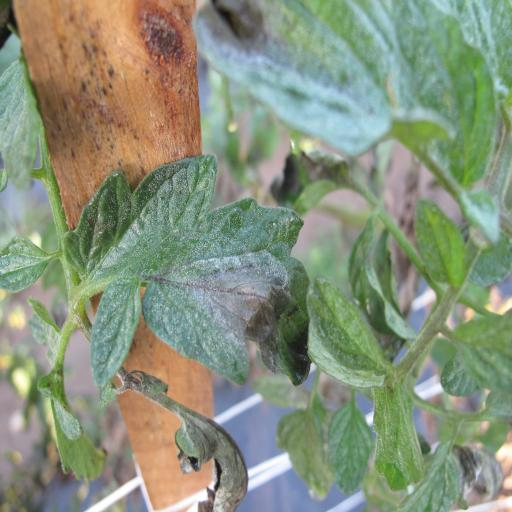Late Blight: (46, 149, 344, 417)
